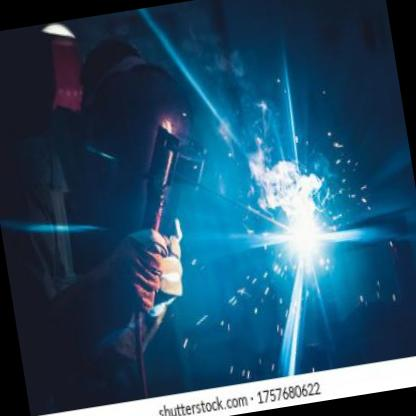Gloves: (44, 220, 188, 370)
